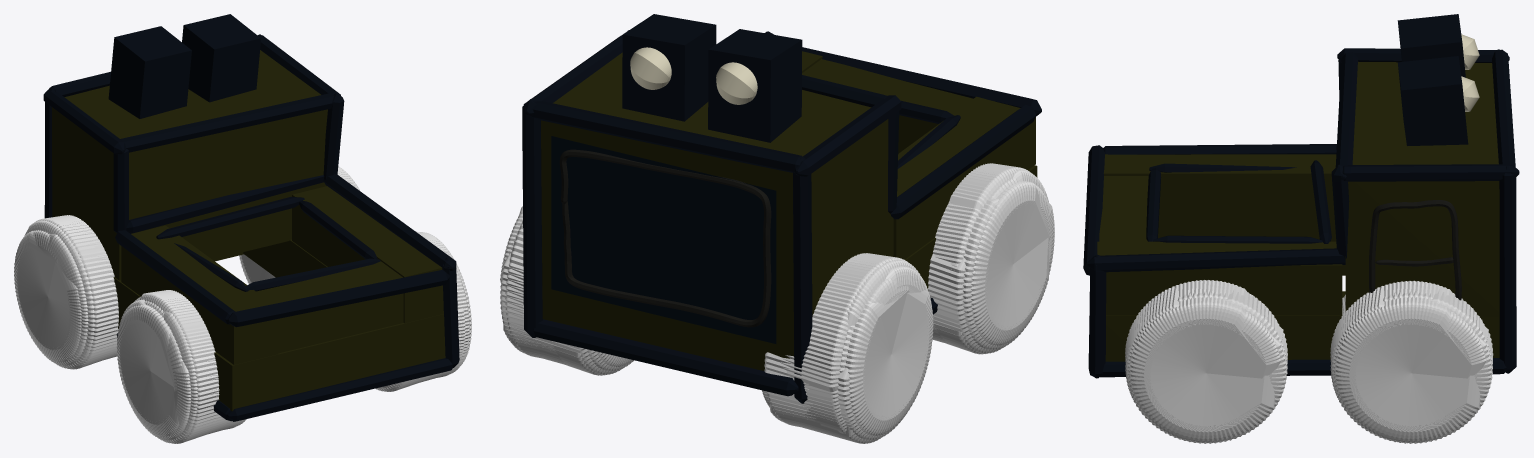
The model's file is Baukipper_baked.fbx.
The picture shows the model from 3 angles, left to right: view 1: azimuth 30°, elevation 25°; view 2: azimuth 150°, elevation 25°; view 3: azimuth 270°, elevation 25°; orthographic projection. The views are drawn at different scales.
Parts seen in each view (by area): view 1: Paint, Wheels-baked; view 2: Paint, Wheels-baked; view 3: Paint, Wheels-baked.
Part boxes in pixels (left/top/right/bottom): Paint: left=43, top=14, right=459, bottom=421; Wheels-baked: left=14, top=166, right=471, bottom=443; Paint: left=522, top=14, right=1041, bottom=403; Wheels-baked: left=500, top=163, right=1054, bottom=443; Paint: left=1083, top=14, right=1519, bottom=378; Wheels-baked: left=1125, top=280, right=1493, bottom=443.
Bounding box in the file's own units: 2.74 × 2.66 × 3.22.
